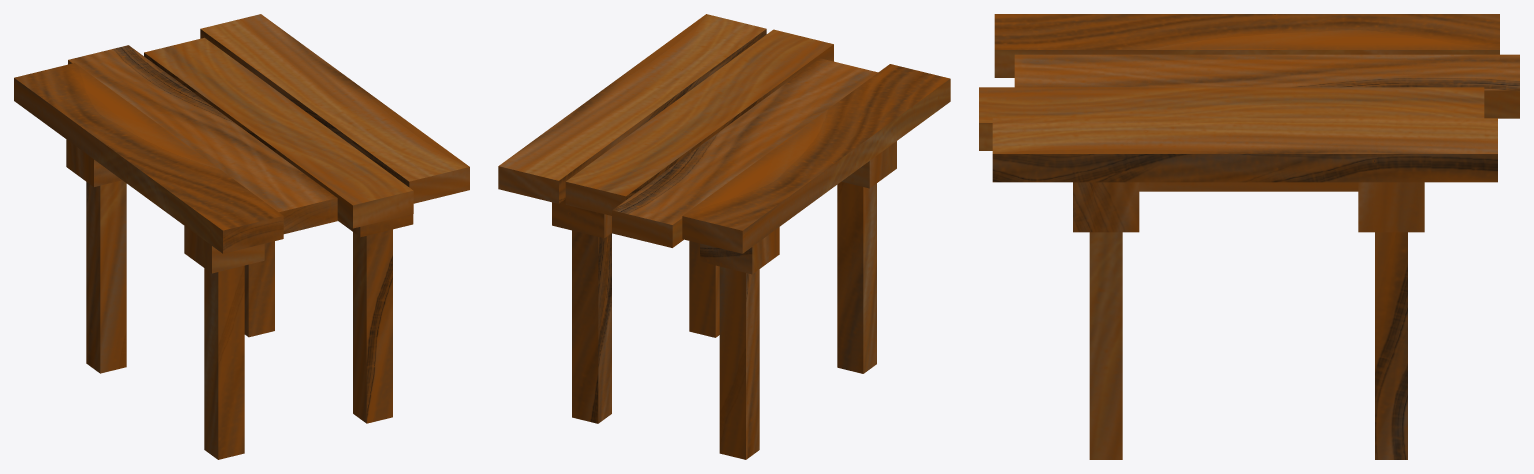
Rendered from TableShort.glb.
3 views of the same model, side by side, from view 1: azimuth 30°, elevation 25°; view 2: azimuth 150°, elevation 25°; view 3: azimuth 270°, elevation 25° (orthographic). The views are drawn at different scales.
Parts seen in each view (by area): view 1: TableShort; view 2: TableShort; view 3: TableShort.
Boxes of the visible parts, x1=… form: TableShort: x1=14, y1=14, x2=469, y2=459; TableShort: x1=498, y1=14, x2=950, y2=459; TableShort: x1=979, y1=14, x2=1519, y2=459.
Bounding box in the file's own units: 3.33 × 3.5 × 5.24.
1 material, 1 textured.
